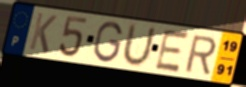5: (58, 15, 90, 59)
E: (152, 28, 192, 75)
G: (92, 21, 124, 64)
K: (27, 11, 59, 56)
R: (183, 34, 218, 76)
U: (119, 22, 158, 68)
